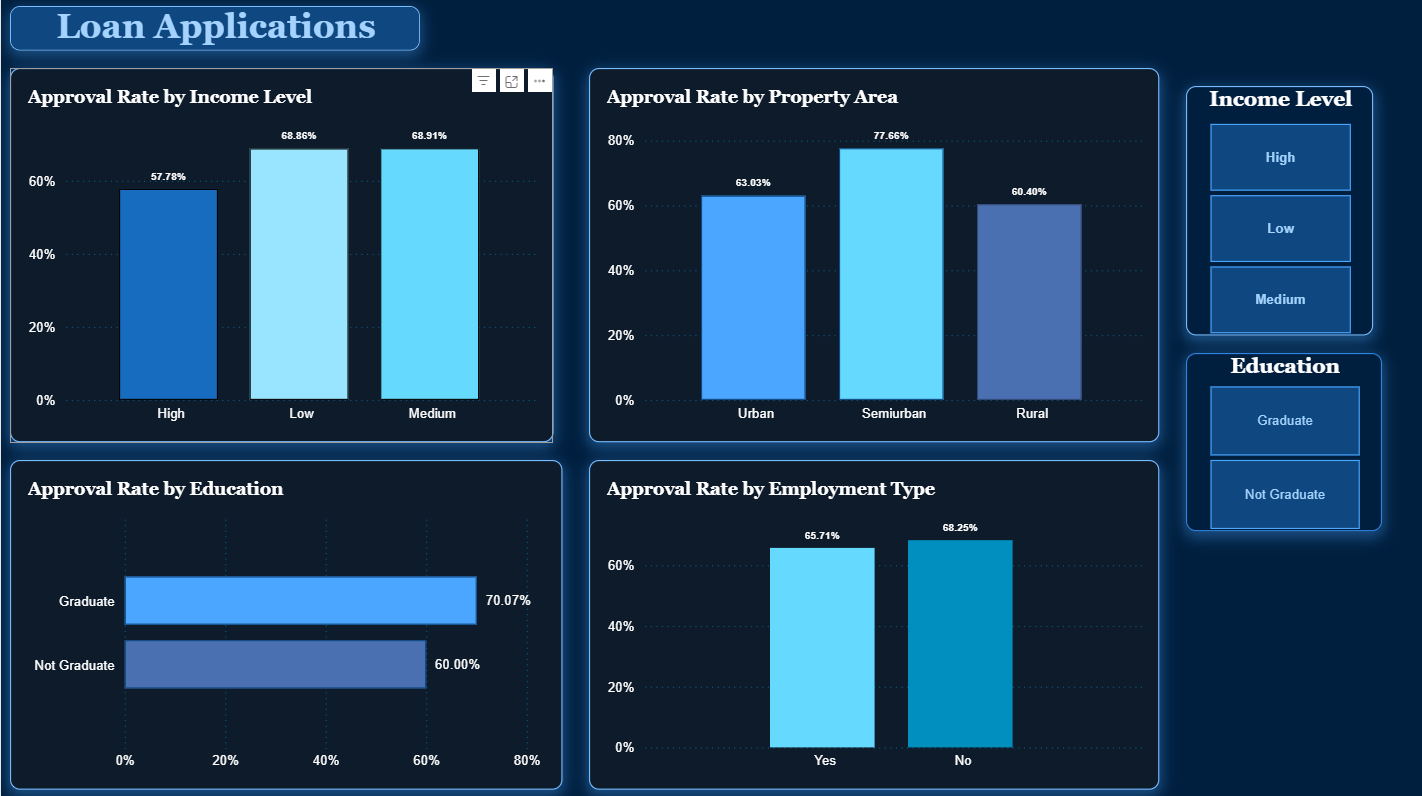

Layout of this report page (visuals, bound fields, positions):
{"tool":"powerbi","page":{"name":"Loan Applications ","canvas":[1280,720],"ordinal":2},"visuals":[{"type":"textbox","title":"Loan Applications","box":[8,8,368,40],"z":0},{"type":"clusteredColumnChart","title":"Approval Rate by Income Level","fields":{"Category":["loan_applications.IncomeLevel"],"Y":["loan_applications.Loan Approval Rate %"]},"box":[8,64,488,336],"z":1000},{"type":"clusteredBarChart","title":"Approval Rate by Education","fields":{"Category":["loan_applications.Education"],"Y":["loan_applications.Loan Approval Rate %"]},"box":[8,416,496,296],"z":2000},{"type":"clusteredColumnChart","title":"Approval Rate by Property Area","fields":{"Category":["loan_applications.PropertyArea"],"Y":["loan_applications.Loan Approval Rate %"]},"box":[528,64,512,336],"z":3000},{"type":"slicer","title":"Income Level","fields":{"Values":["loan_applications.IncomeLevel"]},"box":[1064,80,168,224],"z":4000},{"type":"clusteredColumnChart","title":"Approval Rate by Employment Type","fields":{"Category":["loan_applications.SelfEmployed"],"Y":["loan_applications.Loan Approval Rate %"]},"box":[528,416,512,296],"z":5000},{"type":"slicer","title":"Education","fields":{"Values":["loan_applications.Education"]},"box":[1064,320,176,160],"z":6000}]}

Visuals, with their boxes in screenshot pixels (x1, y1, x2, y2), scaled from the page's 1280x720 canvas onto the 1422x796 screenshot:
"Loan Applications" textbox: <bbox>9, 9, 418, 53</bbox>
"Approval Rate by Income Level" clusteredColumnChart: <bbox>9, 71, 551, 442</bbox>
"Approval Rate by Education" clusteredBarChart: <bbox>9, 460, 560, 787</bbox>
"Approval Rate by Property Area" clusteredColumnChart: <bbox>587, 71, 1155, 442</bbox>
"Income Level" slicer: <bbox>1182, 88, 1369, 336</bbox>
"Approval Rate by Employment Type" clusteredColumnChart: <bbox>587, 460, 1155, 787</bbox>
"Education" slicer: <bbox>1182, 354, 1378, 531</bbox>
